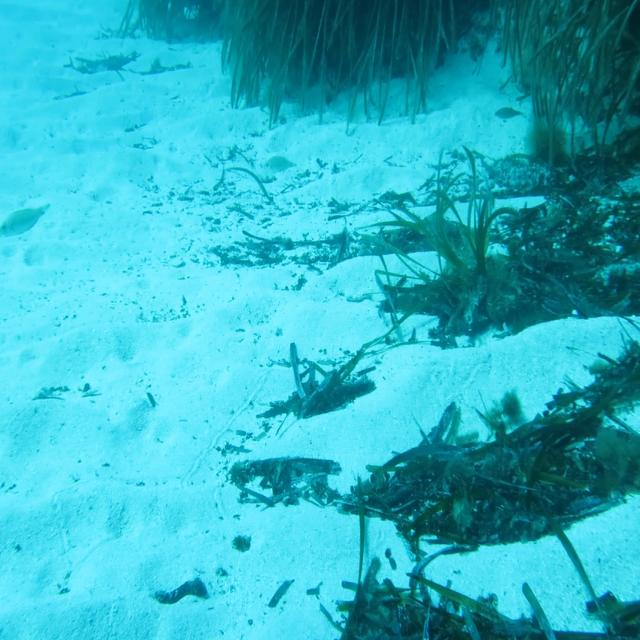BN: (0, 198, 50, 238)
female: (261, 150, 296, 177)
vegetation: (443, 220, 640, 306), (224, 0, 413, 84), (353, 458, 514, 528), (535, 414, 640, 488), (334, 595, 482, 640), (250, 457, 332, 496), (296, 370, 348, 407), (151, 579, 203, 611), (266, 579, 292, 611), (231, 534, 253, 558)
